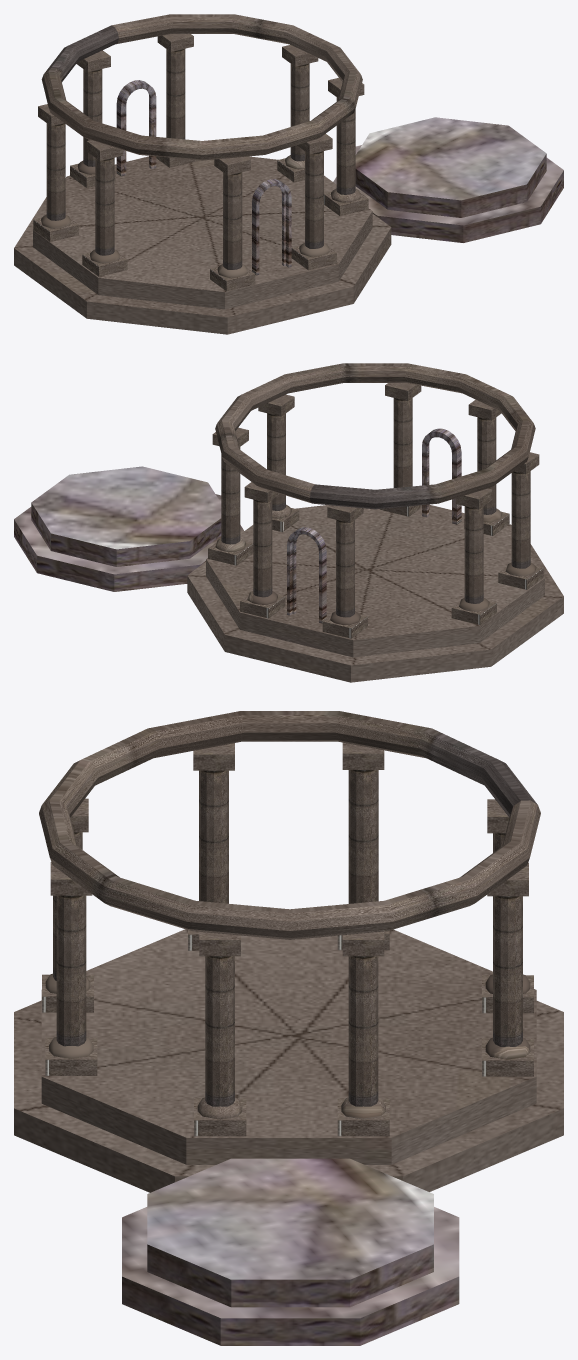
File: ResearchFacility_stage2.fbx
3 views of the same model, one above another, from view 1: azimuth 30°, elevation 25°; view 2: azimuth 150°, elevation 25°; view 3: azimuth 270°, elevation 25° (orthographic). The views are drawn at different scales.
Visible parts, largest first — view 1: polySurface95; view 2: polySurface95; view 3: polySurface95.
Boxes of the visible parts, bbox=[...] form: polySurface95: bbox=[14, 14, 563, 334]; polySurface95: bbox=[14, 363, 563, 682]; polySurface95: bbox=[14, 711, 563, 1345].
Size of the model in its own units: 85.84 by 29.44 by 53.17.
3 materials, 3 textured.
